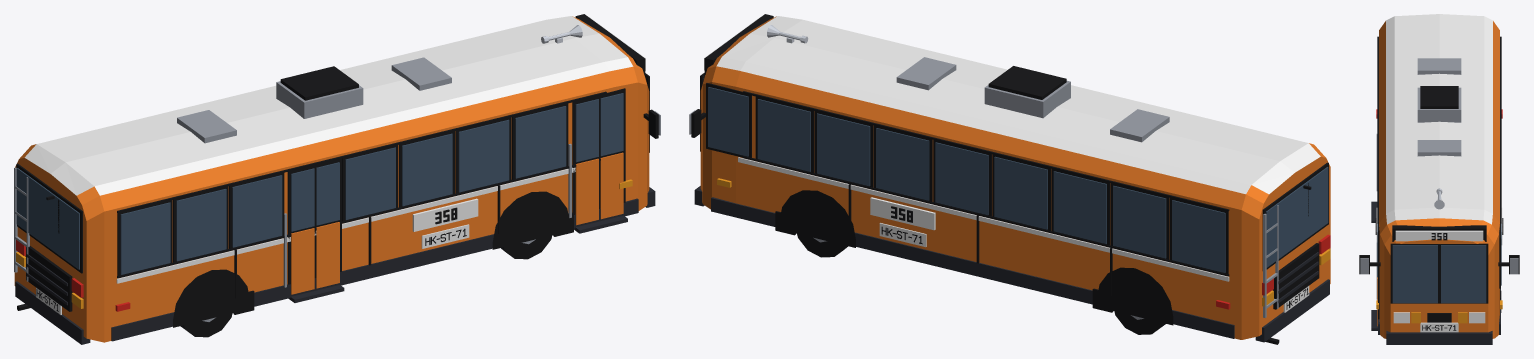
Rendered from micro_naranja.obj.
3 renders of one model, left to right at view 1: azimuth 30°, elevation 25°; view 2: azimuth 150°, elevation 25°; view 3: azimuth 270°, elevation 25°, orthographic. The views are drawn at different scales.
Visible parts, largest first — view 1: micro_naranja; view 2: micro_naranja; view 3: micro_naranja.
Part boxes in pixels (x1,y1,x2,y2): micro_naranja: [14, 14, 660, 344]; micro_naranja: [689, 14, 1330, 344]; micro_naranja: [1359, 14, 1519, 344].
Size of the model in its own units: 10.8 by 3.43 by 3.32.
